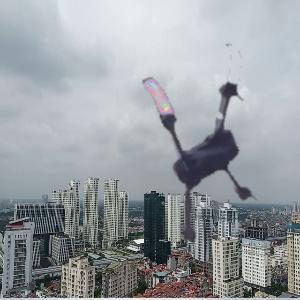drone: (96, 41, 298, 243)
